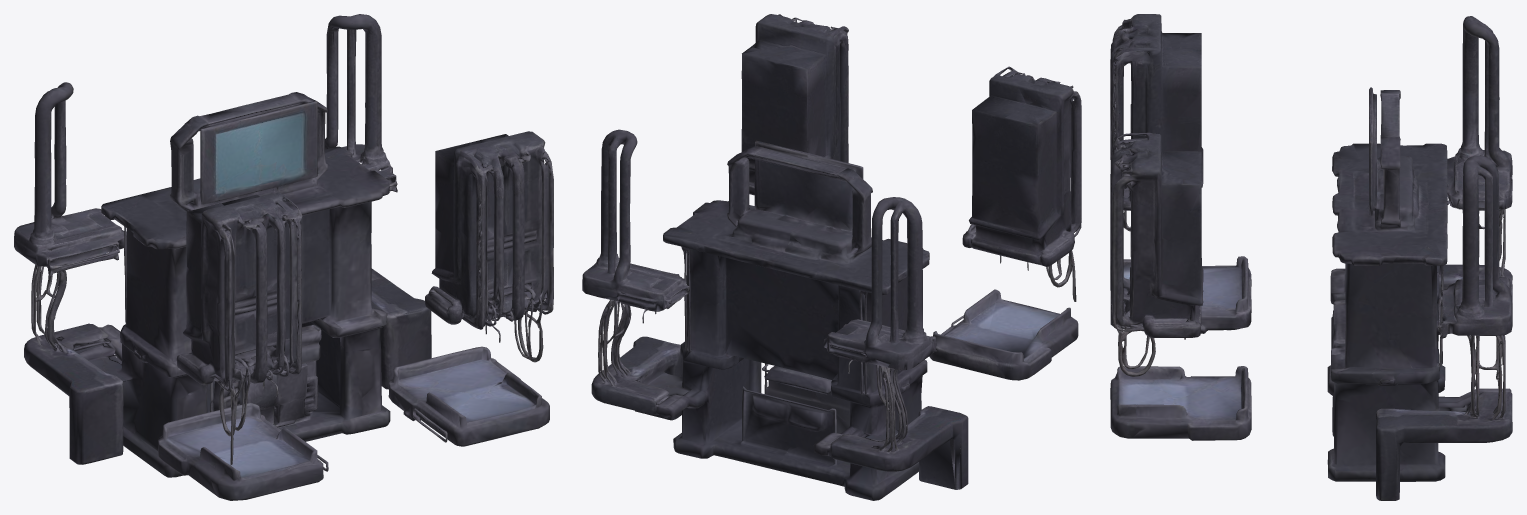
Rendered from dummy.glb.
3 views of the same model, side by side, from view 1: azimuth 30°, elevation 25°; view 2: azimuth 150°, elevation 25°; view 3: azimuth 270°, elevation 25° (orthographic). The views are drawn at different scales.
Bounding box in the file's own units: 1.9 × 1.77 × 1.9.
1 material, 1 textured.
